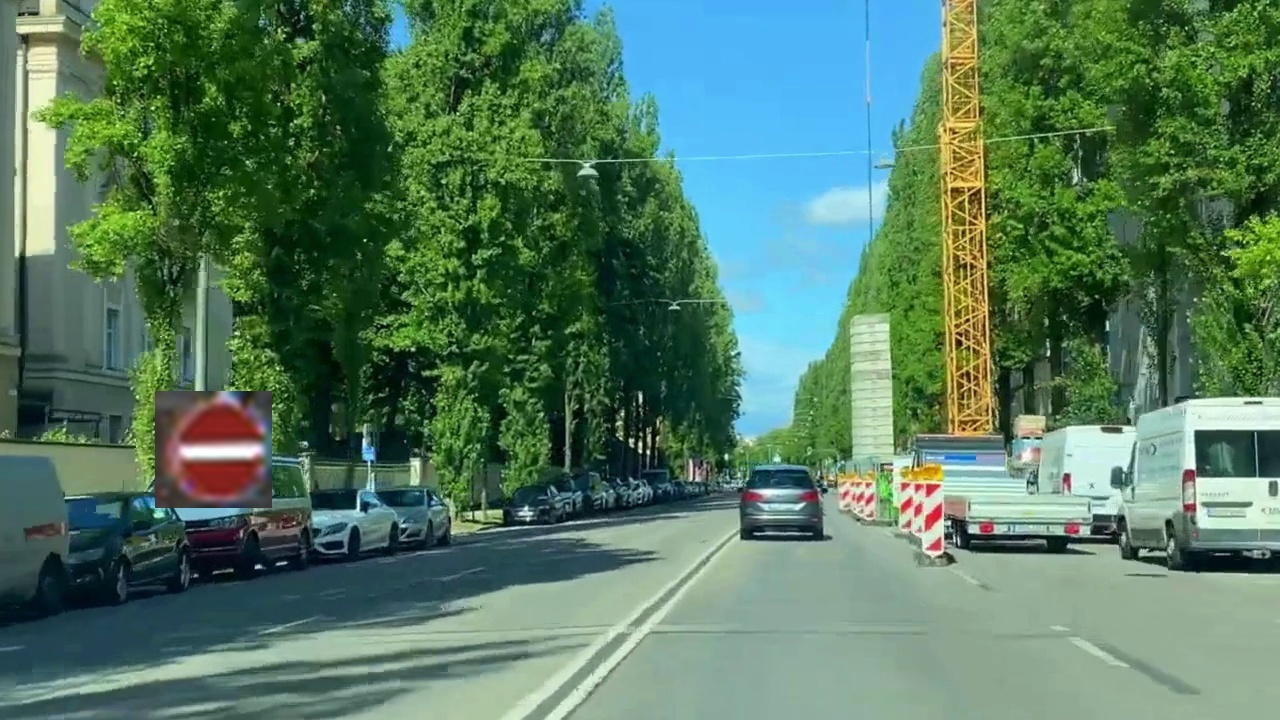No entry: (155, 391, 272, 508)
